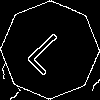L: (25, 25, 77, 77)
